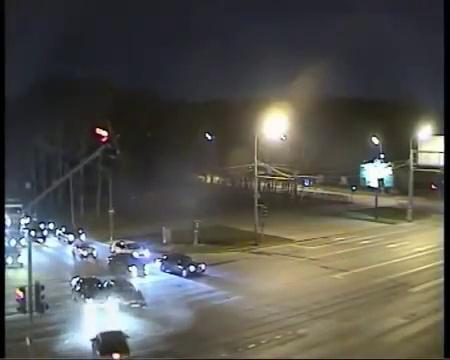car-accident: (72, 274, 149, 315)
